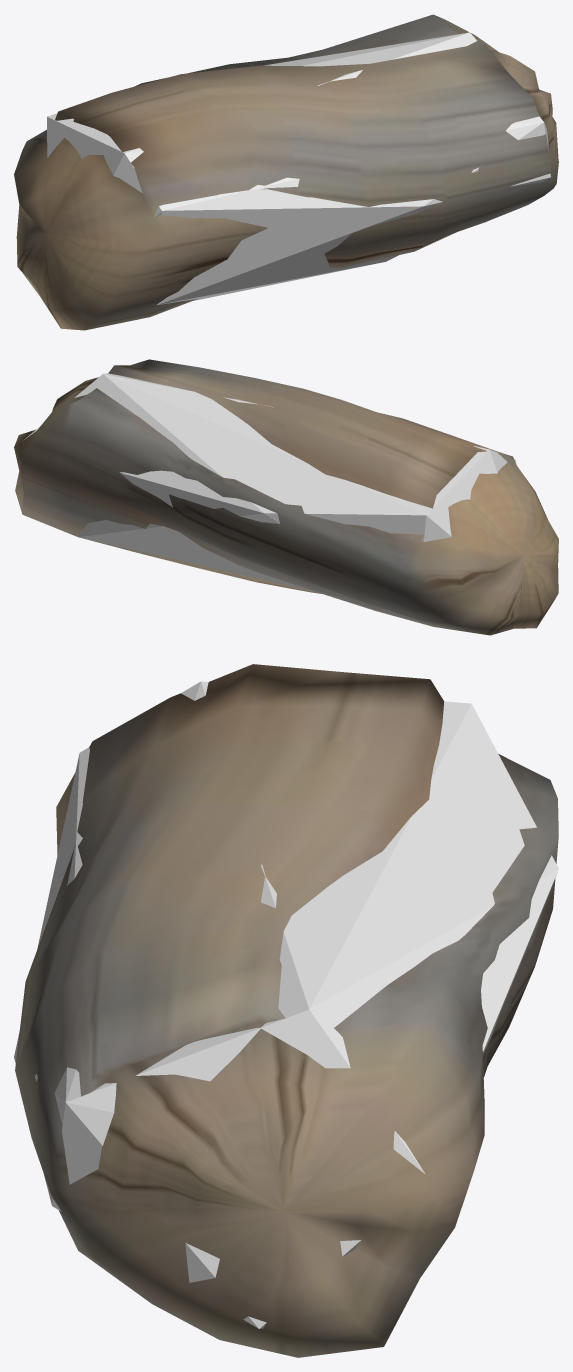
Rendered from IO_Driftwood_C.glb.
3 renders of one model, top to bottom at view 1: azimuth 30°, elevation 25°; view 2: azimuth 150°, elevation 25°; view 3: azimuth 270°, elevation 25°, orthographic. The views are drawn at different scales.
Parts seen in each view (by area): view 1: IO_Driftwood_C_LOD0, IO_Driftwood_C_COL; view 2: IO_Driftwood_C_LOD0, IO_Driftwood_C_COL; view 3: IO_Driftwood_C_LOD0, IO_Driftwood_C_COL.
Part boxes in pixels (bbox=[...]): IO_Driftwood_C_LOD0: bbox=[14, 14, 558, 330]; IO_Driftwood_C_COL: bbox=[47, 32, 551, 304]; IO_Driftwood_C_LOD0: bbox=[14, 359, 558, 635]; IO_Driftwood_C_COL: bbox=[24, 373, 516, 599]; IO_Driftwood_C_LOD0: bbox=[15, 664, 558, 1357]; IO_Driftwood_C_COL: bbox=[14, 681, 558, 1328].
Size of what is drawn, in the model's own units: 0.5002 by 0.1697 by 0.2393.
1 material, 1 textured.
